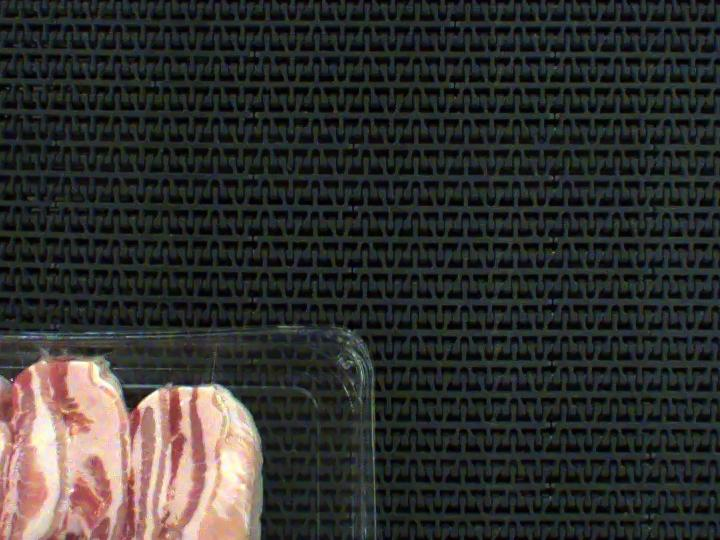packaging-error: (0, 316, 143, 404)
